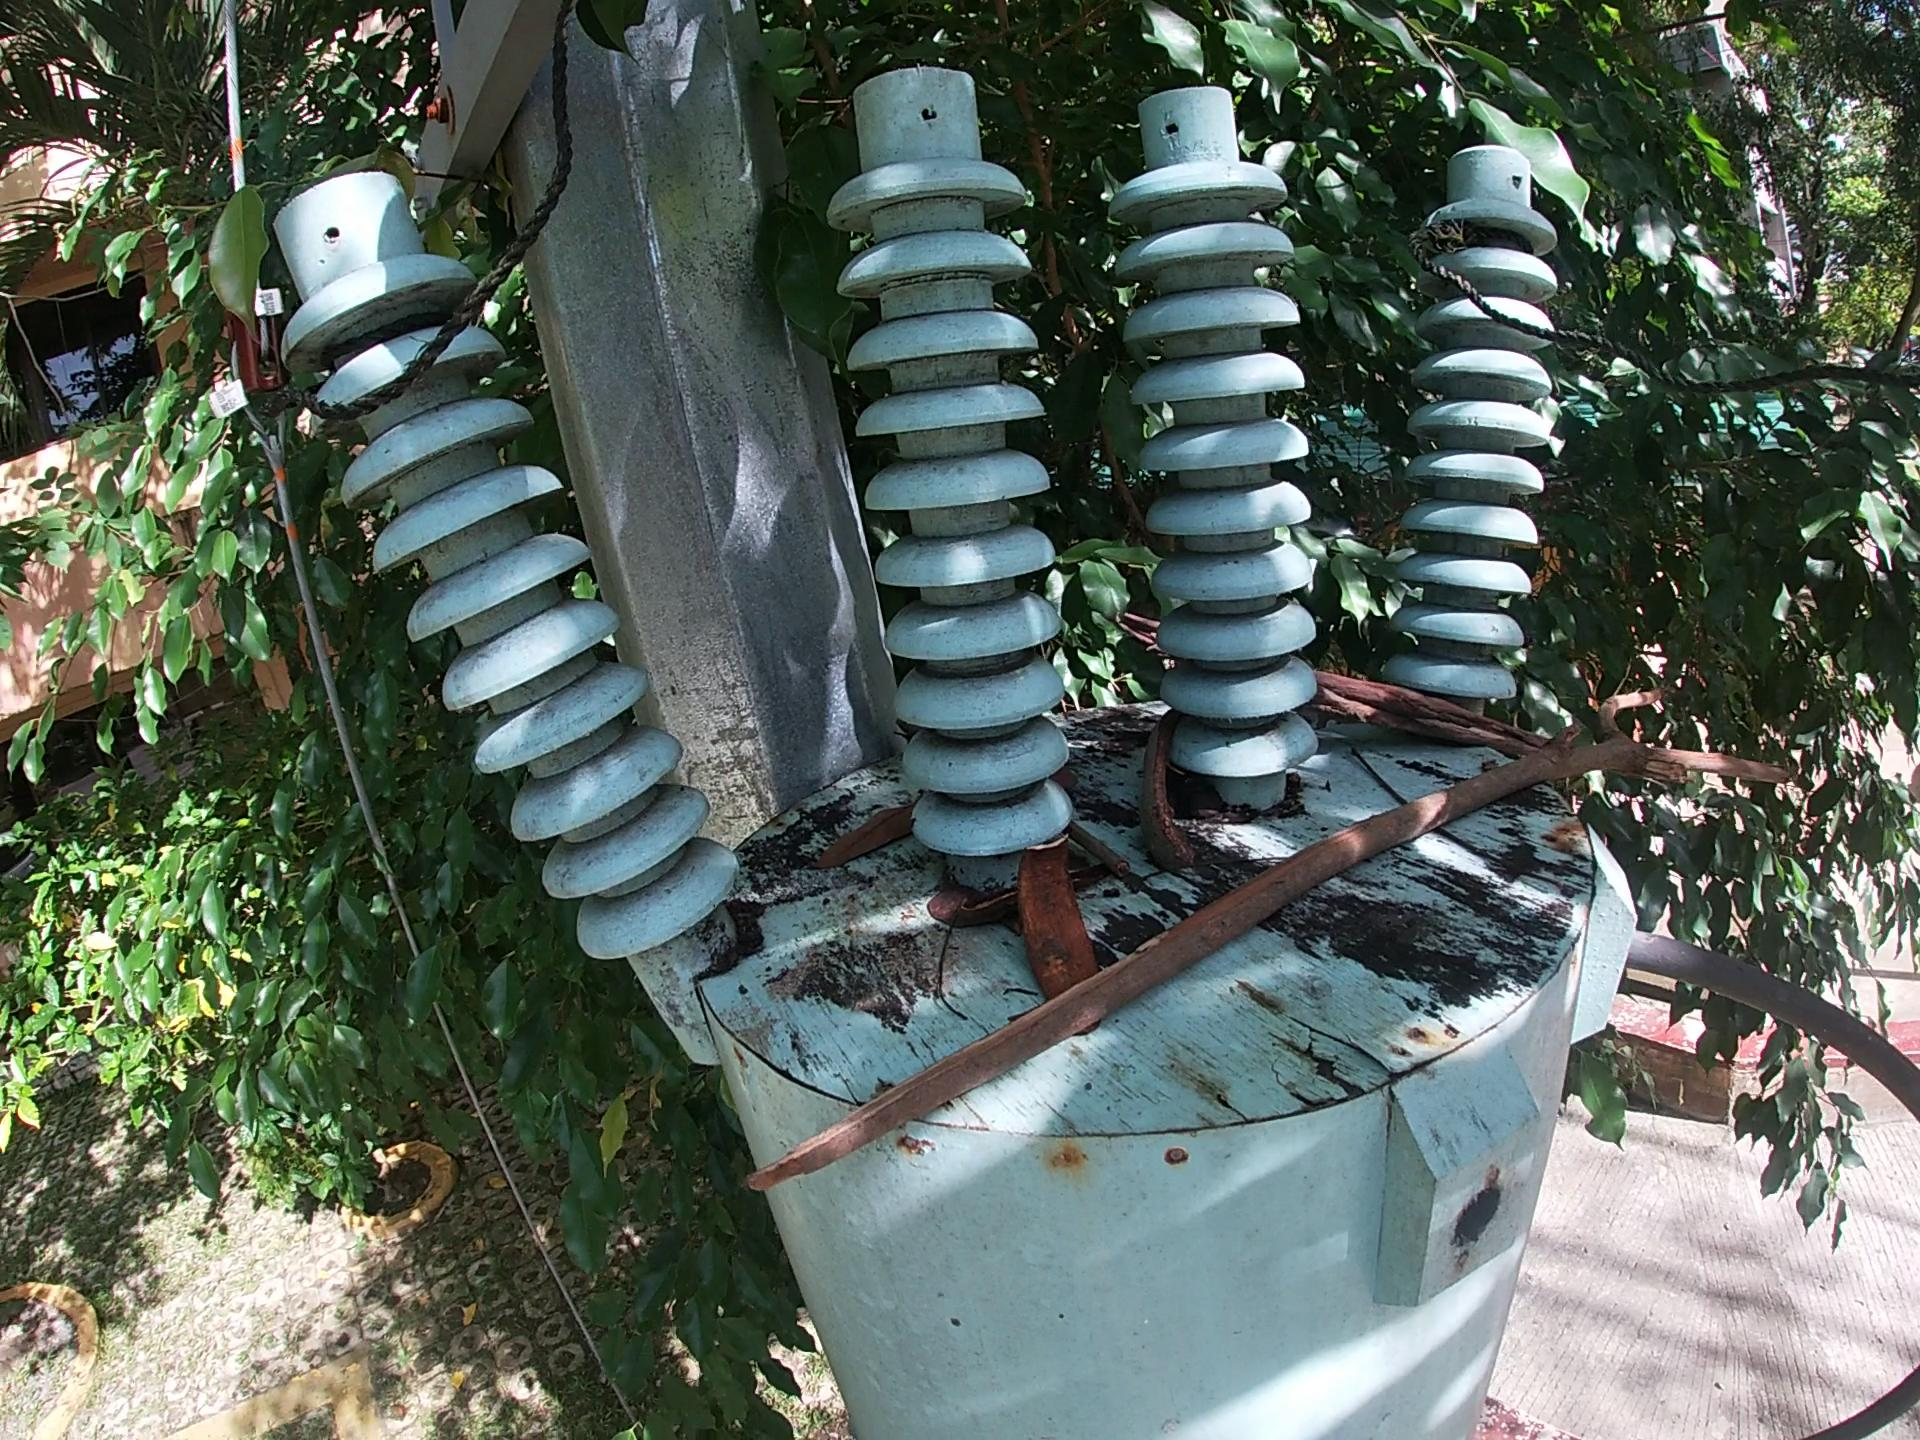leaf: (797, 799, 915, 879), (910, 892, 960, 926)
mahogany fruit: (1140, 694, 1209, 883), (1008, 833, 1087, 1000)
tree branch: (724, 726, 1835, 1187), (1308, 663, 1541, 761), (1140, 839, 1296, 886), (1064, 817, 1154, 895), (1439, 815, 1534, 883), (1342, 743, 1401, 805), (954, 900, 1020, 945), (1107, 604, 1163, 653), (937, 920, 960, 1039)
